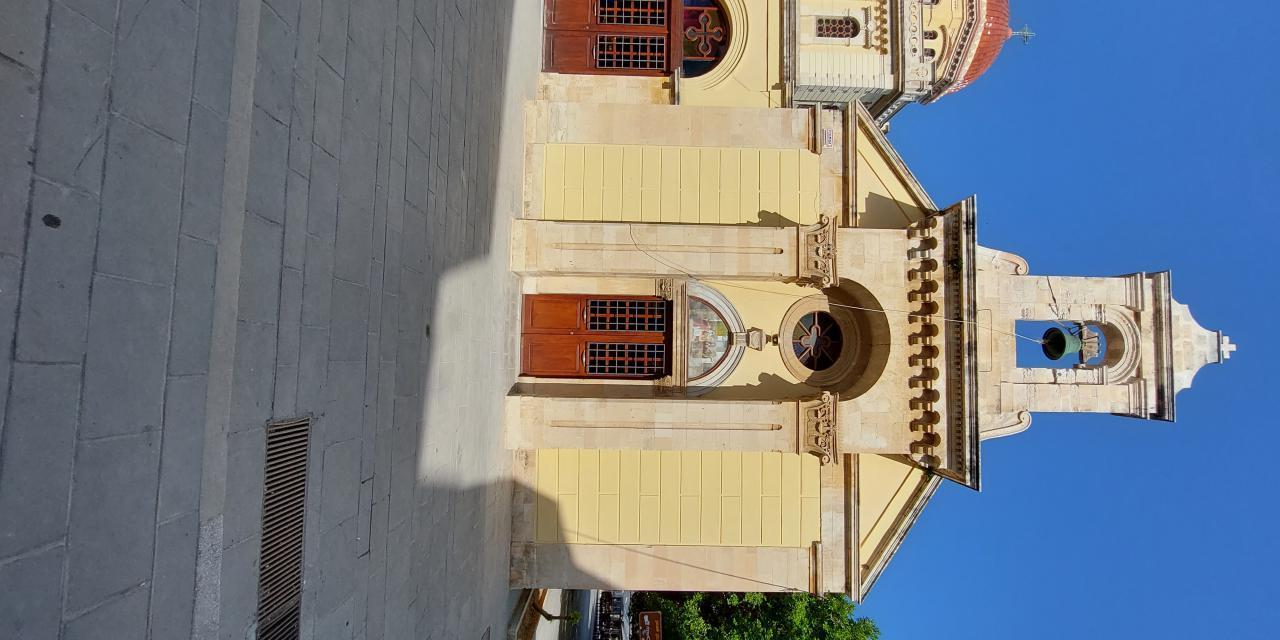Agios Minas: (706, 1, 1248, 640)
